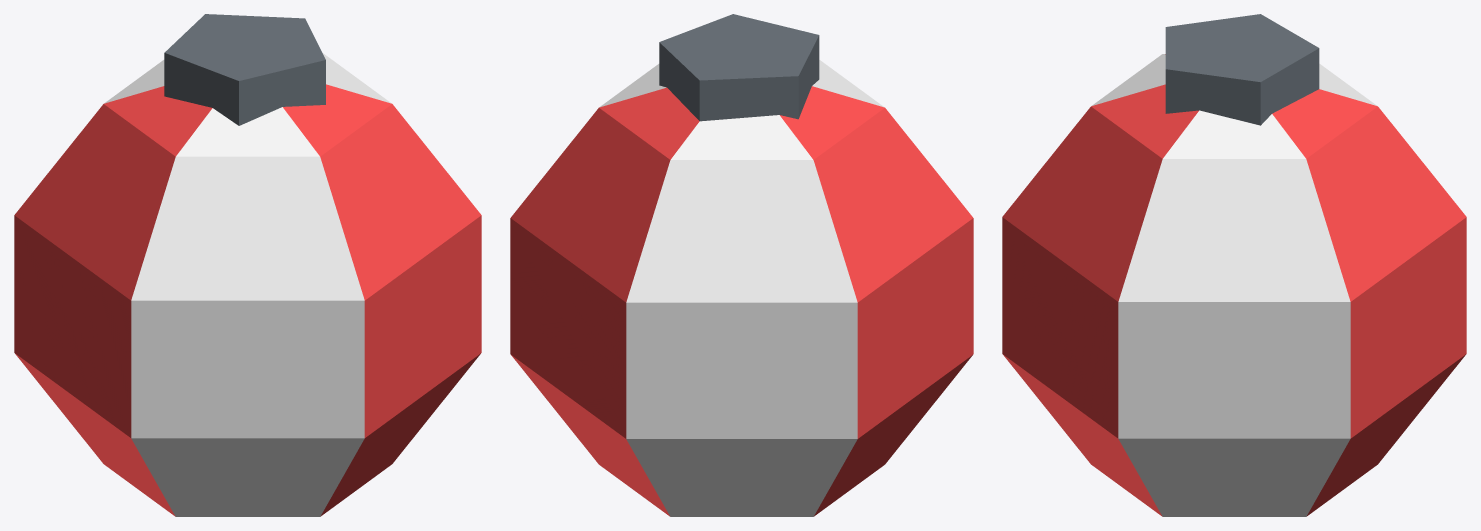
The model's file is chochinred.fbx.
The picture shows the model from 3 angles, left to right: view 1: azimuth 30°, elevation 25°; view 2: azimuth 150°, elevation 25°; view 3: azimuth 270°, elevation 25°; orthographic projection.
Parts seen in each view (by area): view 1: 球, 円柱; view 2: 球, 円柱; view 3: 球, 円柱.
Part boxes in pixels (x1=…): 球: x1=14, y1=53, x2=481, y2=516; 円柱: x1=164, y1=14, x2=325, y2=125; 球: x1=510, y1=60, x2=973, y2=516; 円柱: x1=659, y1=14, x2=819, y2=121; 球: x1=1002, y1=54, x2=1466, y2=516; 円柱: x1=1165, y1=14, x2=1319, y2=125.
Size of the model in its own units: 24.02 by 30.21 by 27.73.
